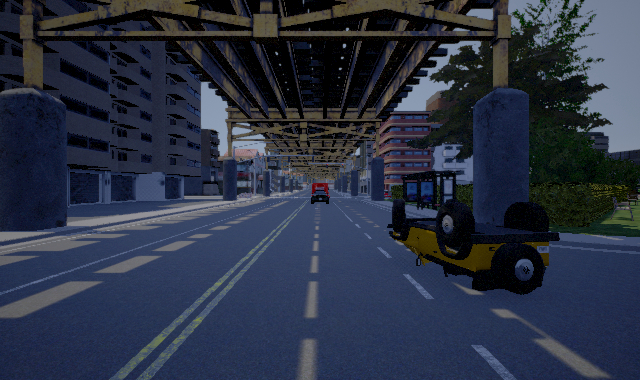vehicle: (387, 199, 560, 295), (311, 187, 330, 204)
